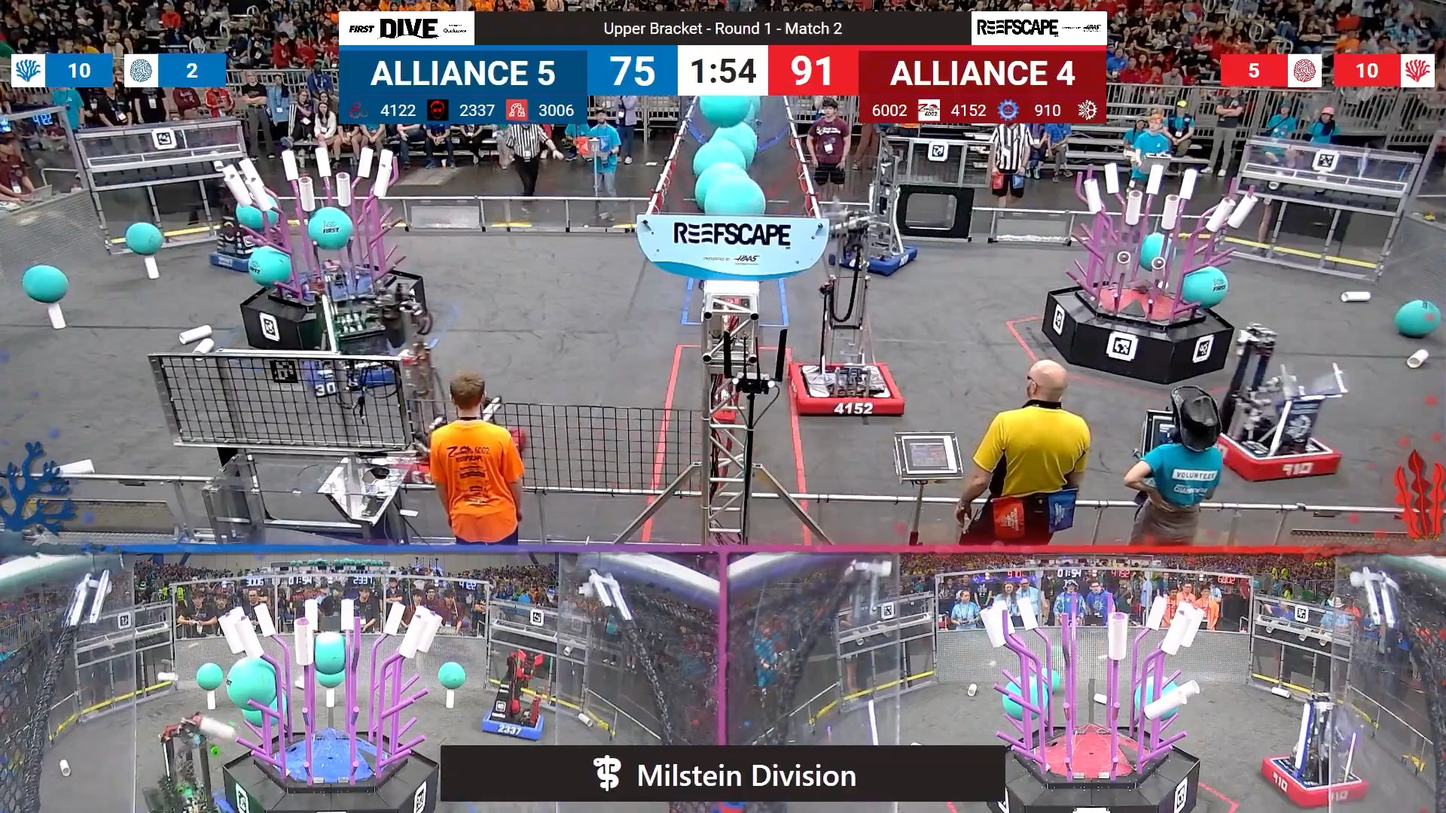bumpers: (1204, 419, 1347, 487), (785, 358, 908, 424), (305, 339, 425, 394), (1252, 754, 1374, 808), (825, 240, 926, 275), (474, 703, 554, 744), (127, 784, 238, 812), (203, 244, 275, 276)
